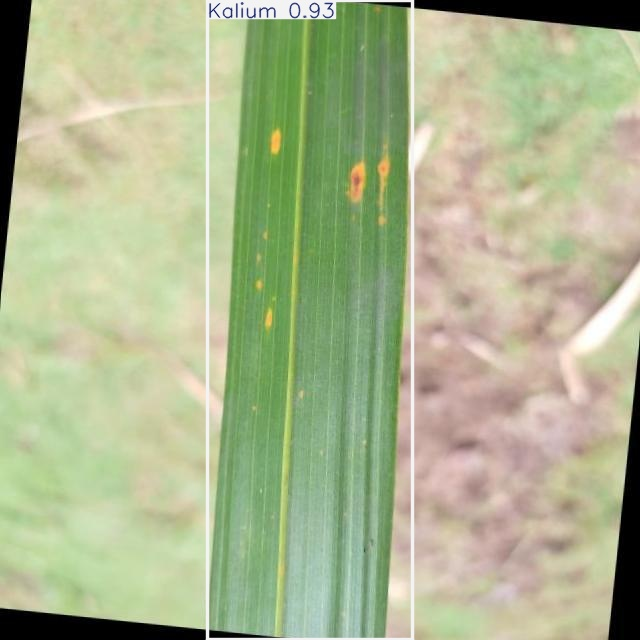Kalium: (207, 0, 412, 640)
